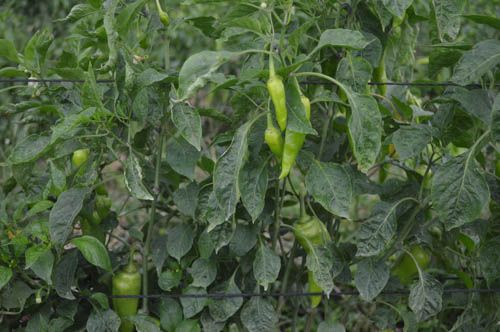ChiliPepper: (292, 215, 331, 312), (280, 78, 312, 191), (103, 264, 144, 331), (399, 242, 434, 293), (265, 74, 292, 129), (260, 124, 284, 161)
